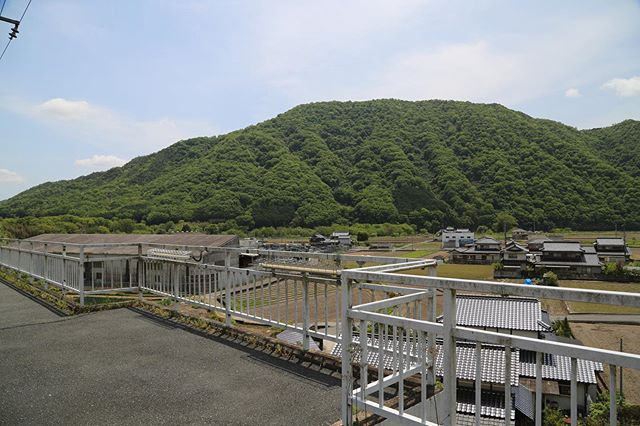building: (337, 302, 595, 426), (23, 231, 248, 286), (536, 237, 605, 274), (448, 235, 504, 264), (501, 240, 534, 276)
mountain: (35, 71, 607, 212)
sky: (7, 1, 640, 162)
